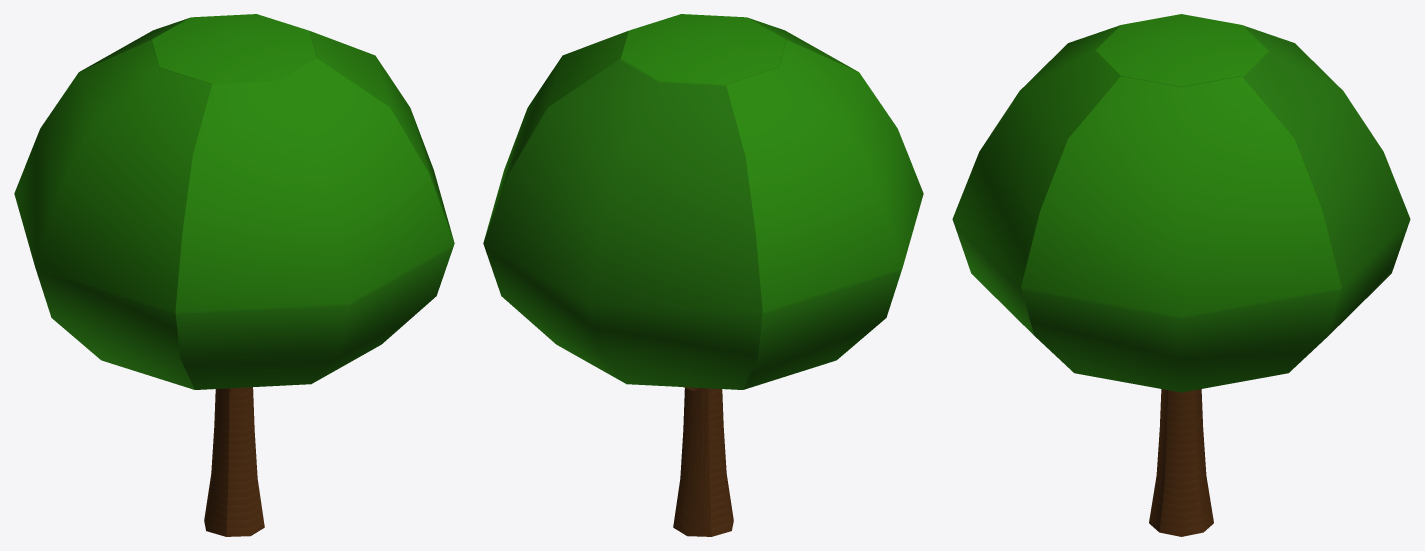
File: wood.obj
3 renders of one model, left to right at view 1: azimuth 30°, elevation 25°; view 2: azimuth 150°, elevation 25°; view 3: azimuth 270°, elevation 25°, orthographic.
Parts seen in each view (by area): view 1: group1 pCube1, pasted__pCube1 group group1; view 2: group1 pCube1, pasted__pCube1 group group1; view 3: group1 pCube1, pasted__pCube1 group group1.
Boxes of the visible parts, x1,y1,x2,y2 form: group1 pCube1: [14, 14, 454, 389]; pasted__pCube1 group group1: [204, 387, 264, 536]; group1 pCube1: [483, 14, 923, 389]; pasted__pCube1 group group1: [673, 388, 733, 536]; group1 pCube1: [952, 14, 1410, 392]; pasted__pCube1 group group1: [1149, 389, 1213, 536].
Size of the model in its own units: 10.42 by 12.24 by 10.42.
Materials: 1 (1 with a texture image).
